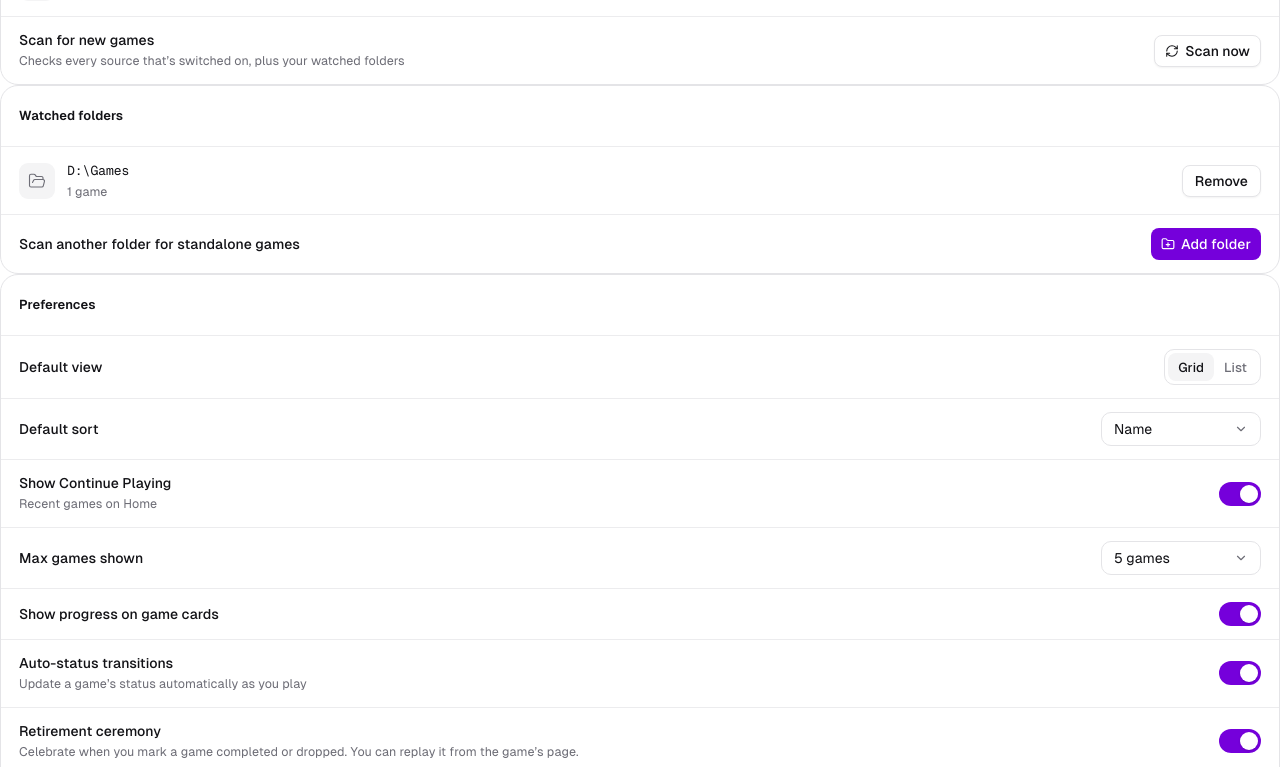
Scenario: v1 settings: Library › preference controls update the store
(page scrolled)
Click the radio button labelled "List" at (1236, 367), box x1=1214 y1=353 x2=1257 y2=381
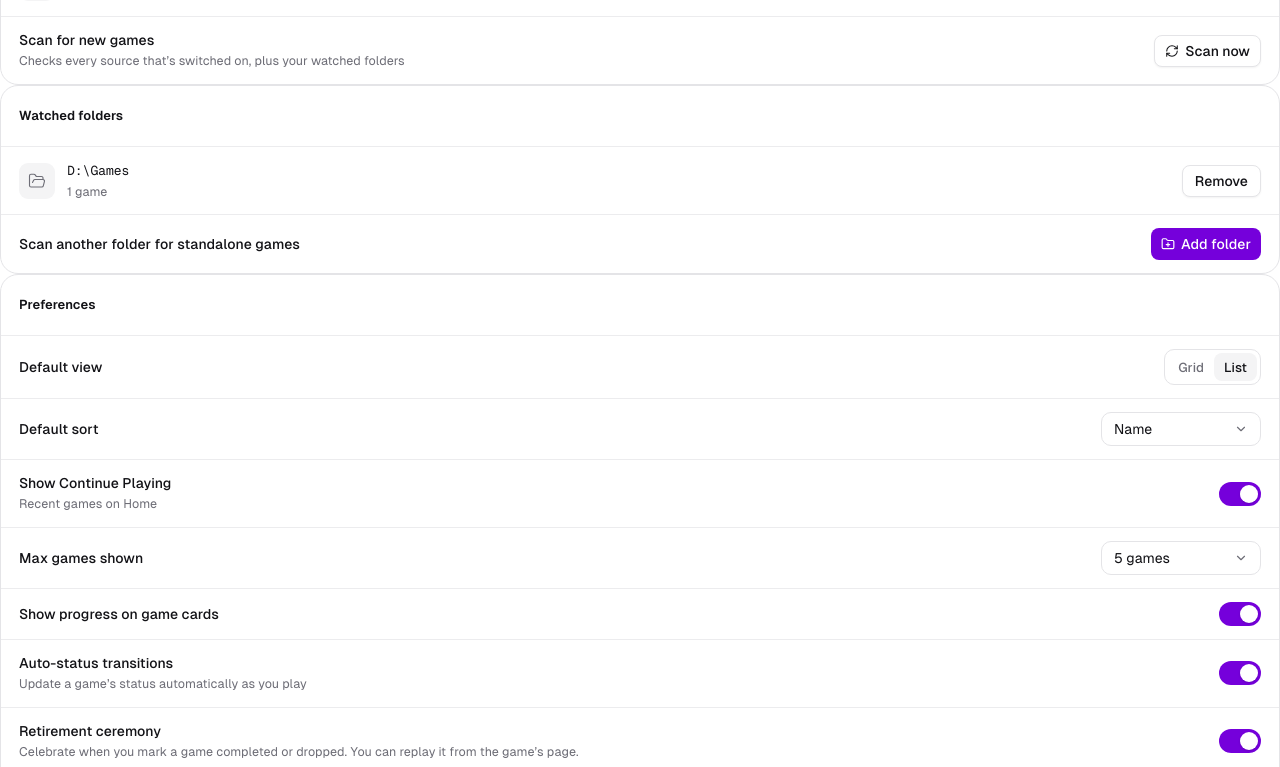
Click the switch with test id "pref-auto-status" at (1240, 673), box x1=1219 y1=661 x2=1261 y2=685
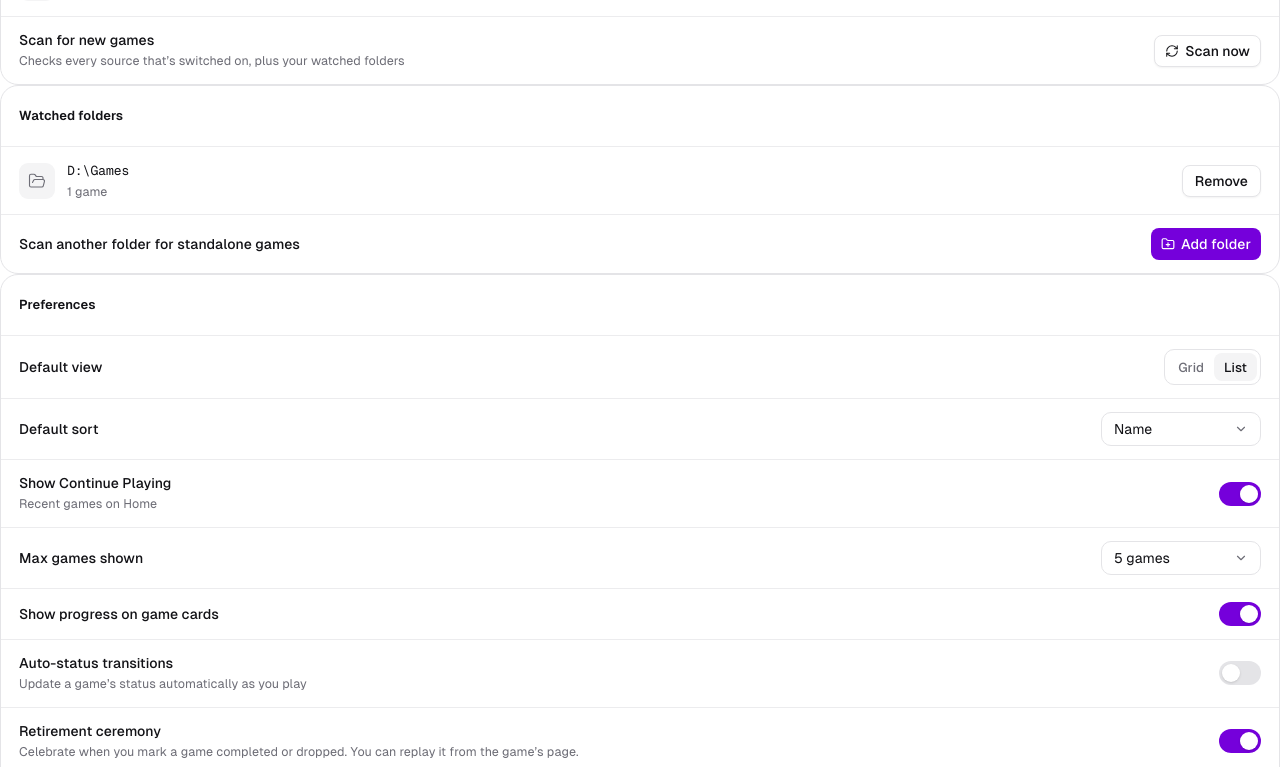
Click the switch with test id "pref-show-card-progress" at (1240, 614), box x1=1219 y1=602 x2=1261 y2=626
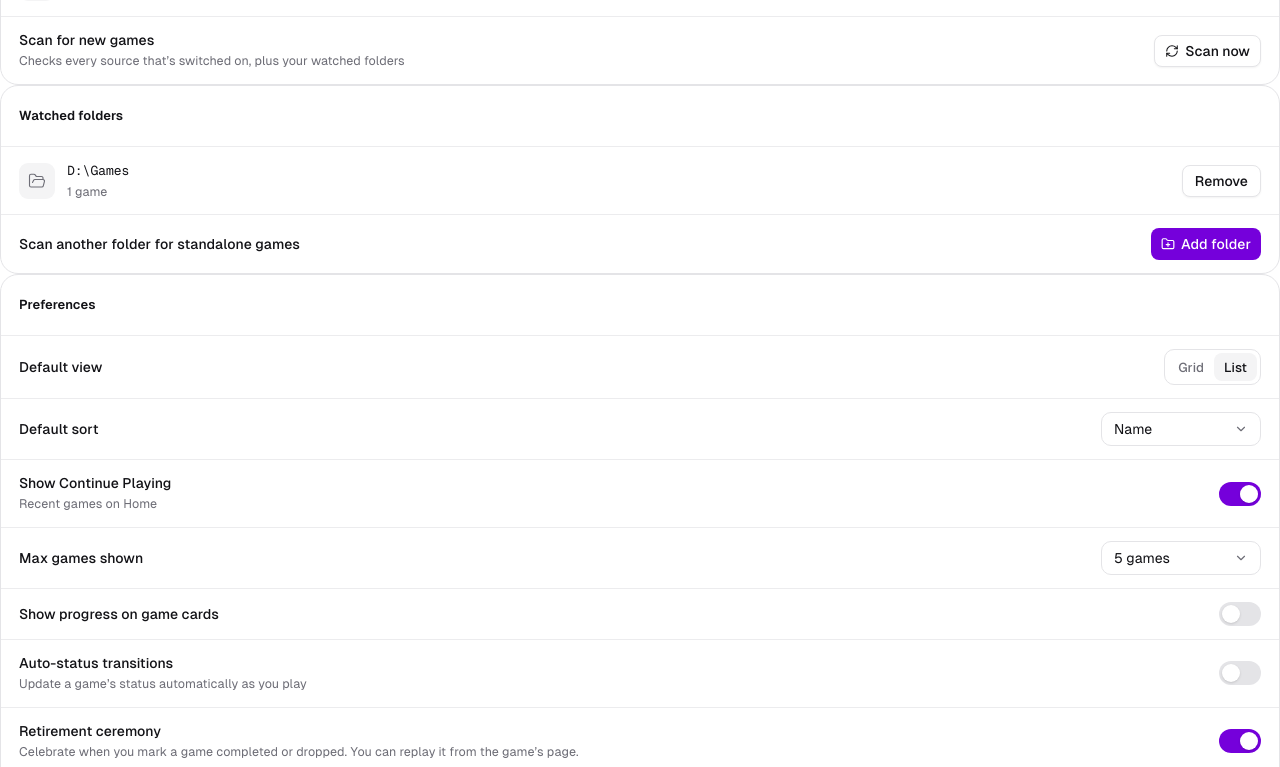
Click the switch with test id "pref-retirement-ceremony-enabled" at (1240, 741), box x1=1219 y1=729 x2=1261 y2=753
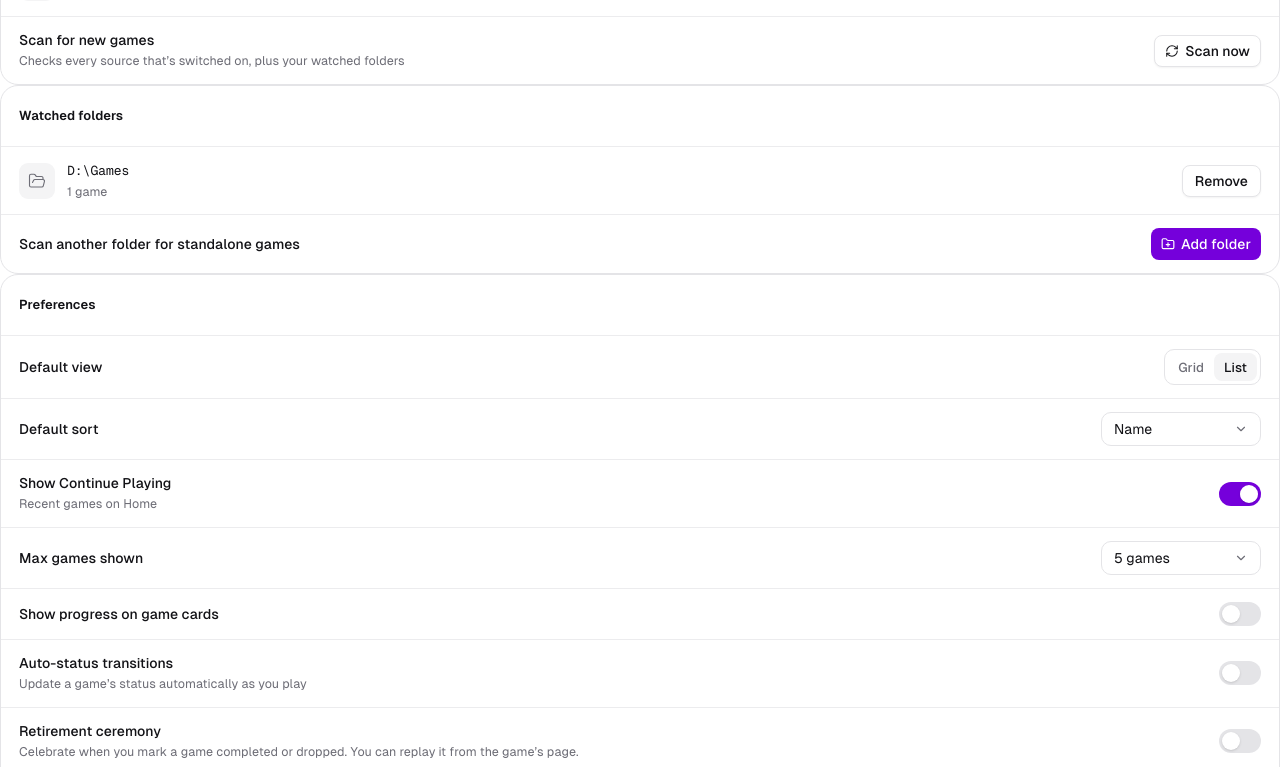
Check: the dropdown with test id "pref-continue-playing-max" is enabled, box x1=1101 y1=541 x2=1261 y2=575
Click the switch with test id "pref-continue-playing-enabled" at (1240, 494), box x1=1219 y1=482 x2=1261 y2=506
(page scrolled)
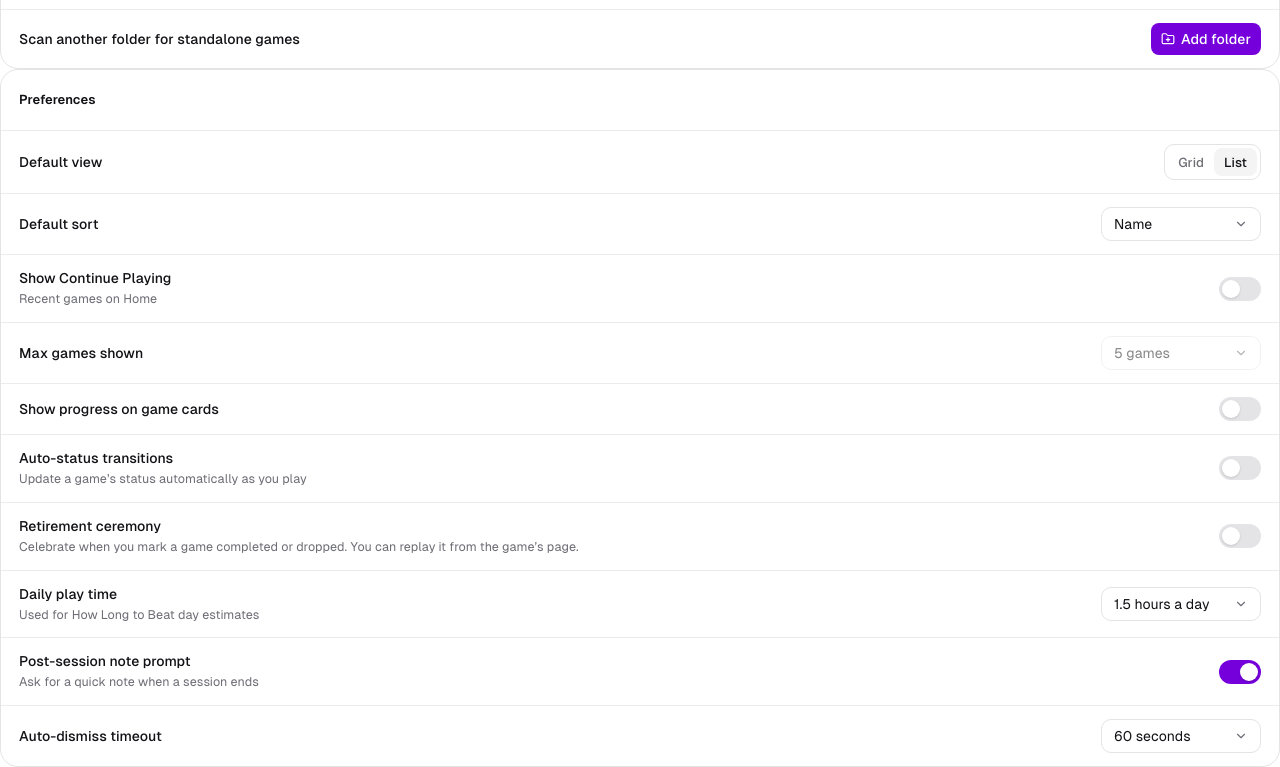
Check: the dropdown with test id "pref-continue-playing-max" is disabled, box x1=1101 y1=336 x2=1261 y2=370
Click the switch with test id "pref-session-note-prompt-enabled" at (1240, 672), box x1=1219 y1=660 x2=1261 y2=684
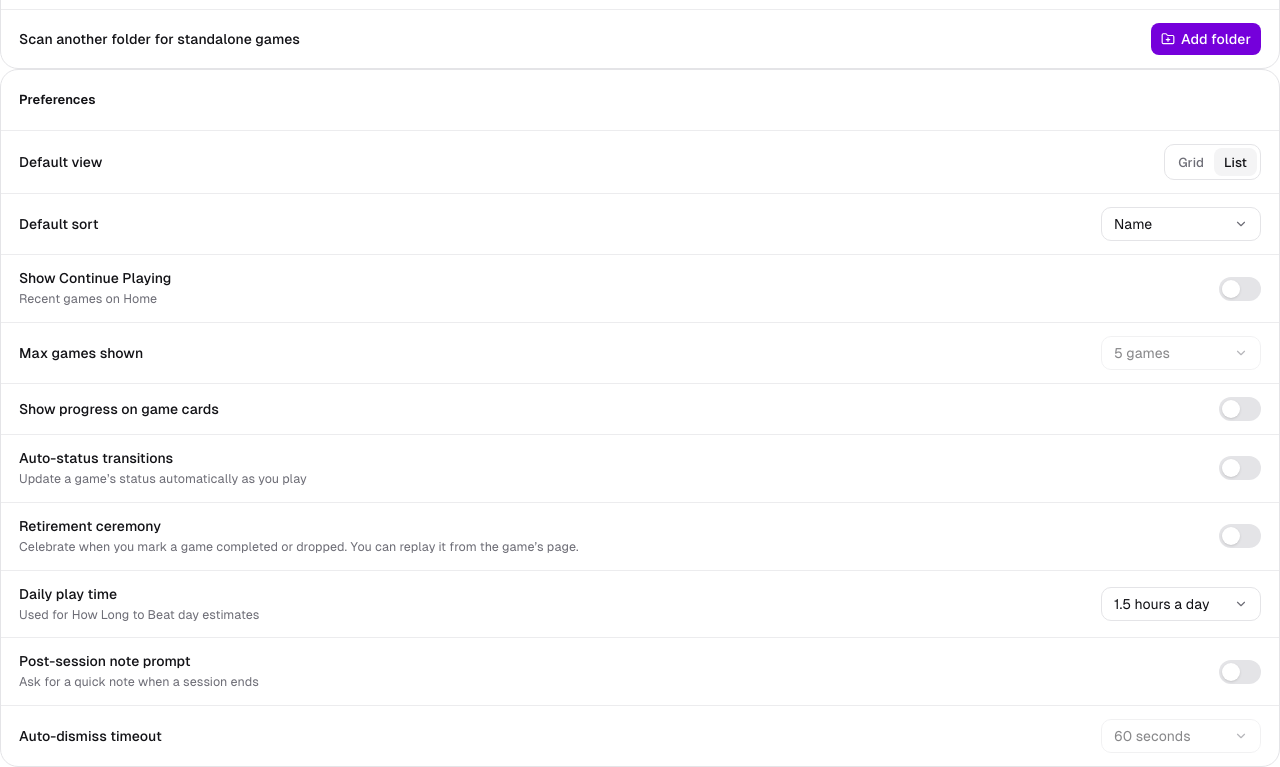
Check: the dropdown with test id "pref-session-note-prompt-timeout" is disabled, box x1=1101 y1=719 x2=1261 y2=753
